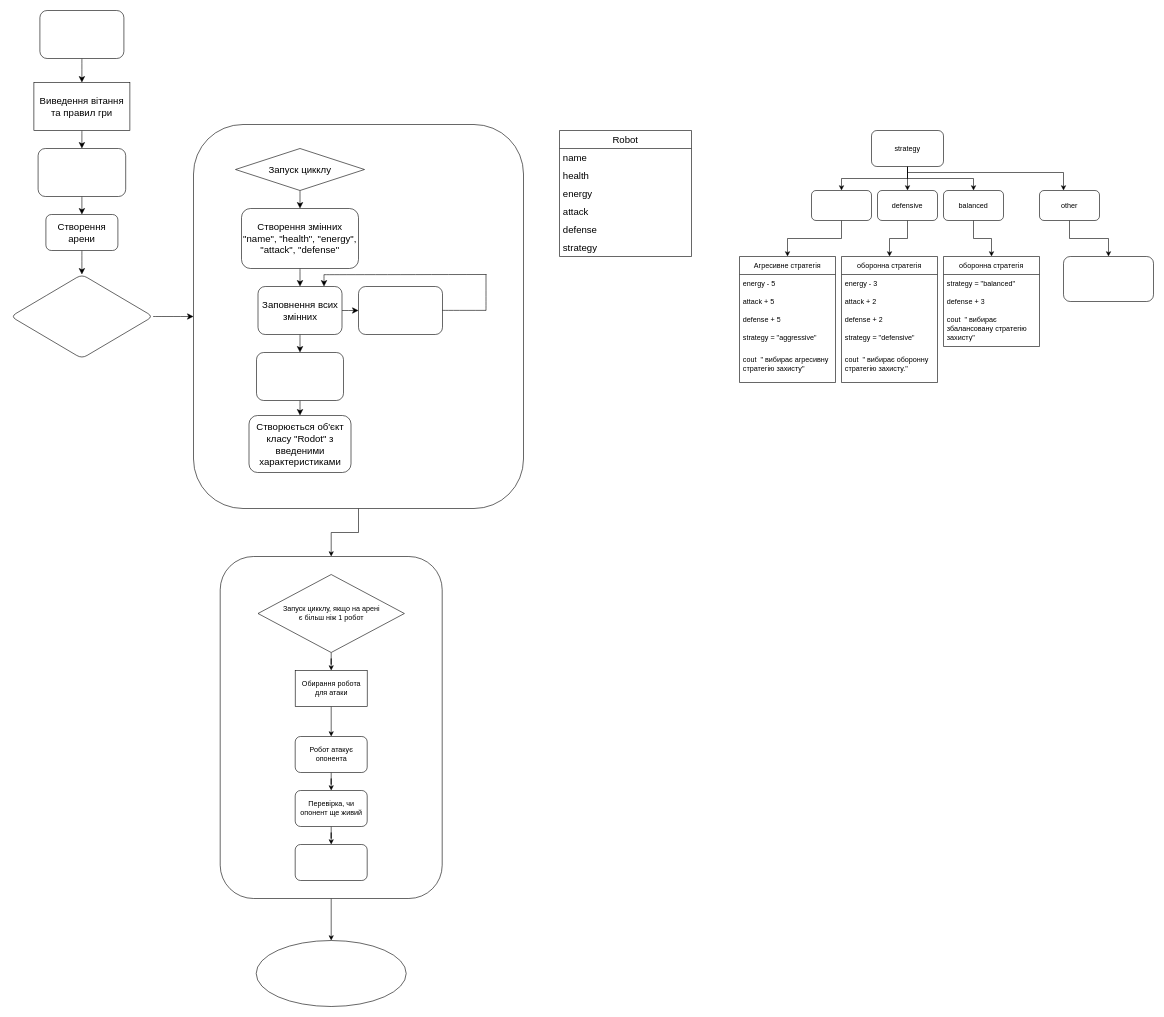
This 1164x1017 diagram has some shape labels left out. The centre of each missing label's shape, as x and y in pixels:
aggressive: point 841,205
cout "Невірний код стратегії. Вибрано збалансовану стратегію захисту.": point 1108,279
Вивід статусу роботів на арені: point 331,862
Визначення та виведення переможця: point 331,973
Старт програми: point 81,34
Цикл для введення кількості та характеристик кожного з роботів: point 81,316
Якщо все введено вірно: point 300,376
Якщо допущено якусь помилку (Значення > 500 або < 1): point 400,310
Ініціалізація генератора випадкових чисел: point 82,172
